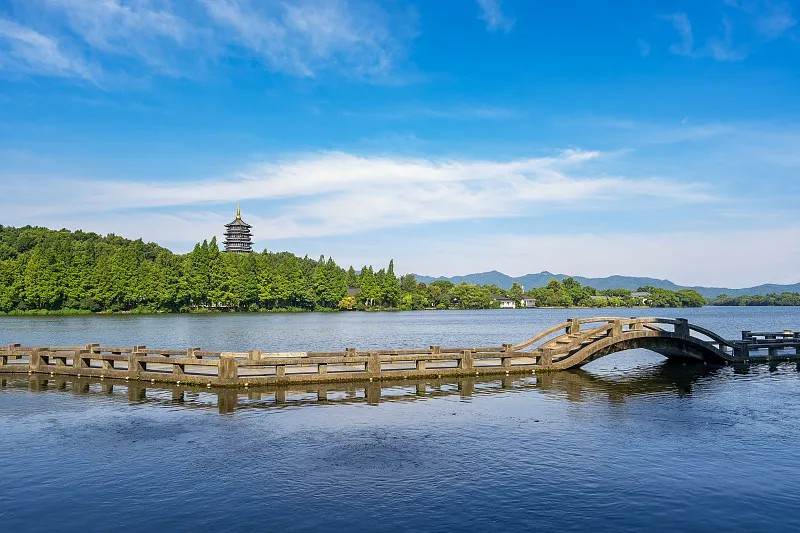Leifeng: (223, 201, 255, 257)
